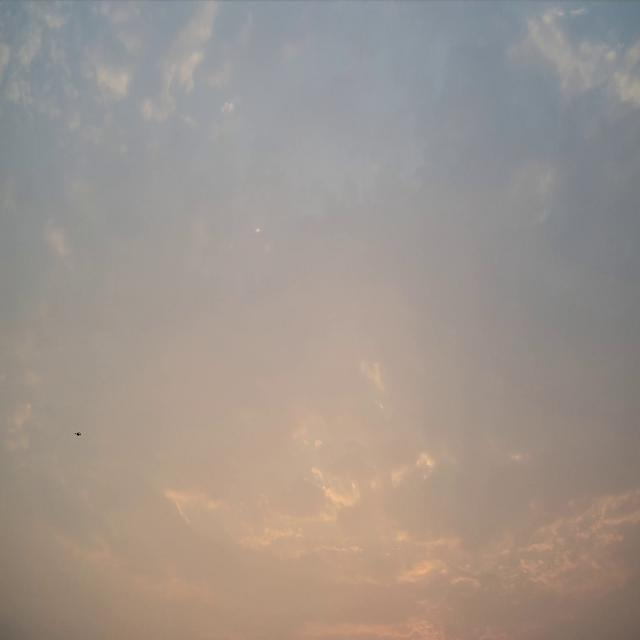UAV: (74, 432, 81, 436)
